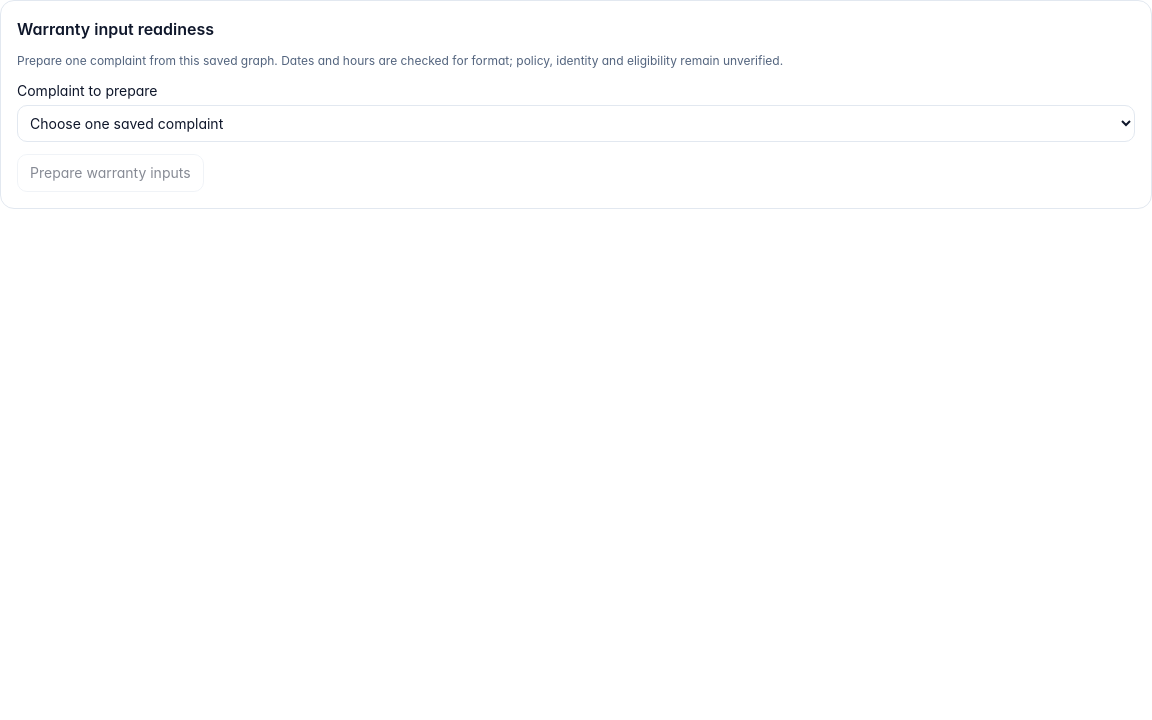
shows a read error and retries only on explicit action
Select "t1" in the dropdown labelled "Complaint to prepare" at (576, 124), box x1=17 y1=105 x2=1135 y2=142
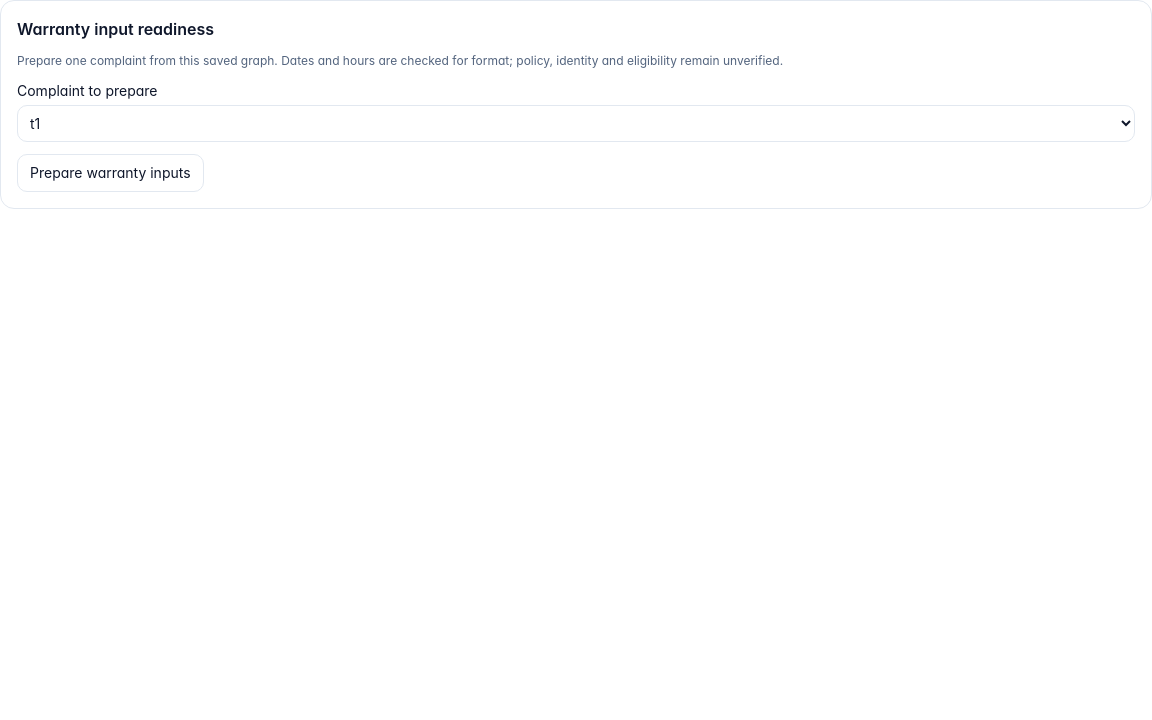
Click the button "Prepare warranty inputs" at (110, 173), box x1=17 y1=154 x2=204 y2=192
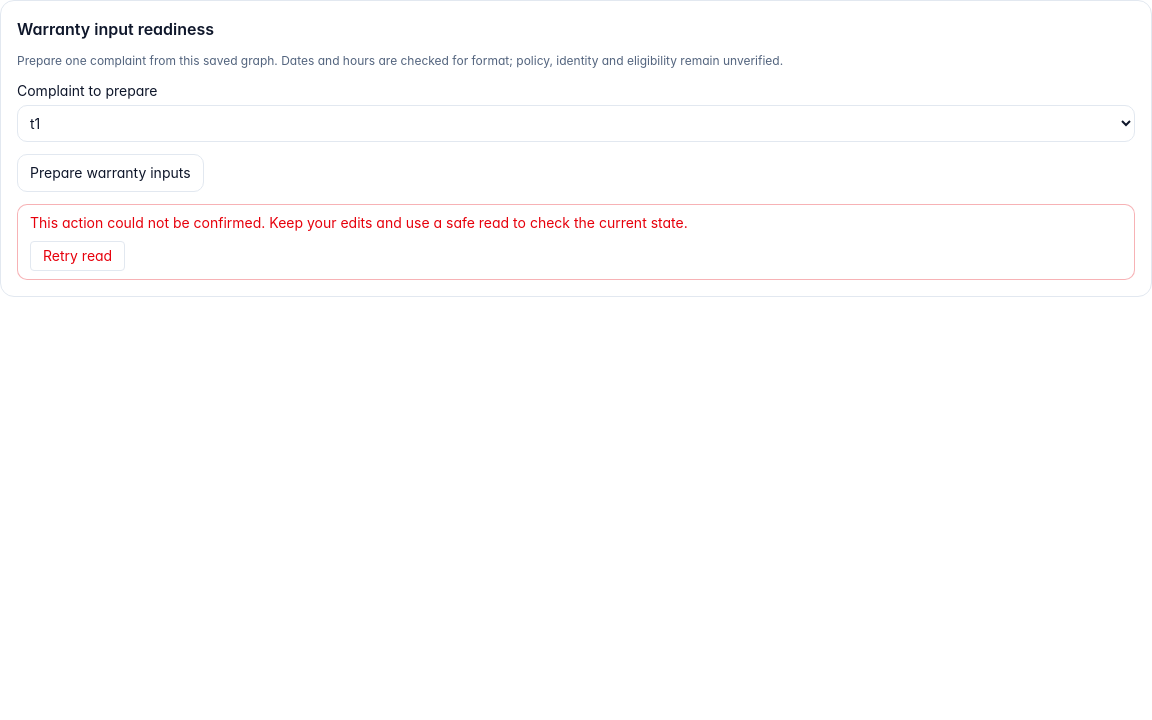
Click the button "Retry read" at (78, 256), box x1=30 y1=241 x2=125 y2=271
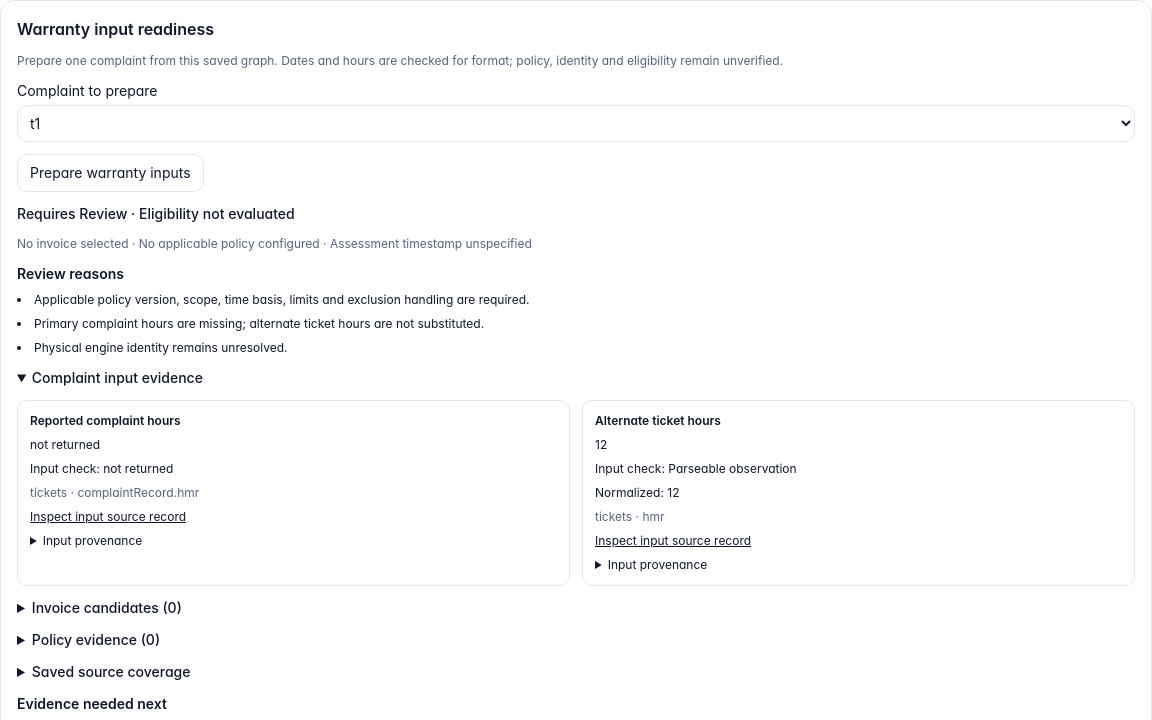
Expected: the text "Requires Review · Eligibility not evaluated" is shown, x1=17 y1=205 x2=295 y2=222
